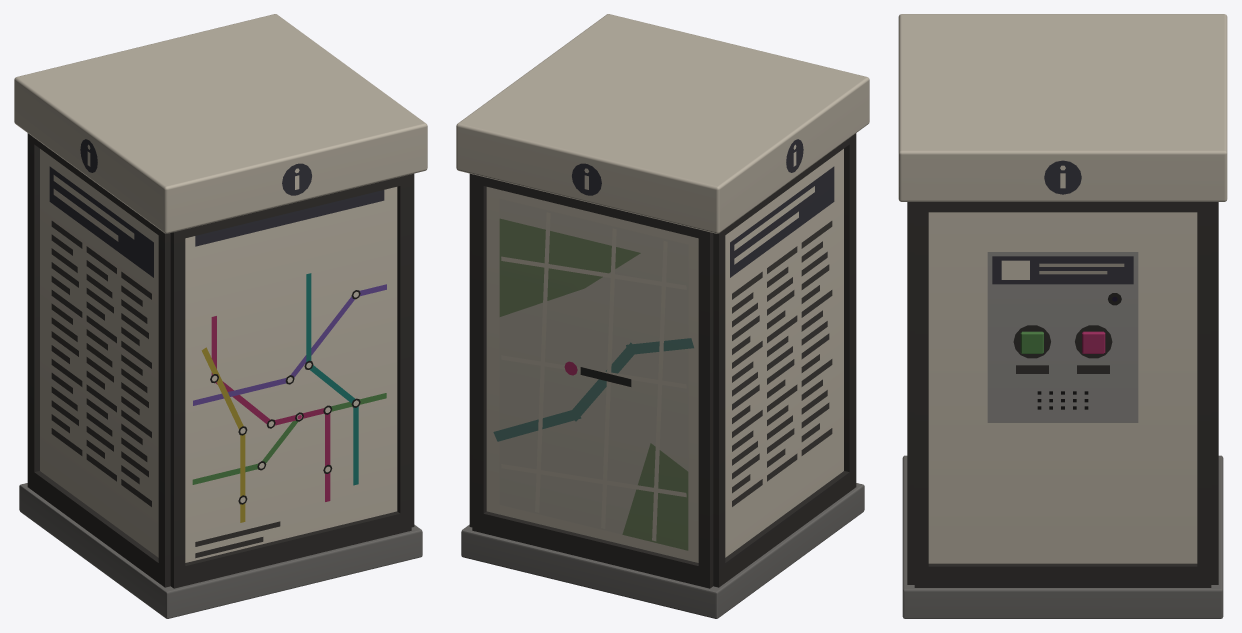
Rendered from help_point.glb.
3 views of the same model, side by side, from view 1: azimuth 30°, elevation 25°; view 2: azimuth 150°, elevation 25°; view 3: azimuth 270°, elevation 25° (orthographic). The views are drawn at different scales.
Parts seen in each view (by area): view 1: help_point; view 2: help_point; view 3: help_point.
Boxes of the visible parts, x1,y1,x2,y2 form: help_point: (14,14,427,618); help_point: (456,14,869,618); help_point: (898,14,1227,618).
Bounding box in the file's own units: 1.4 × 2.2 × 1.4.
